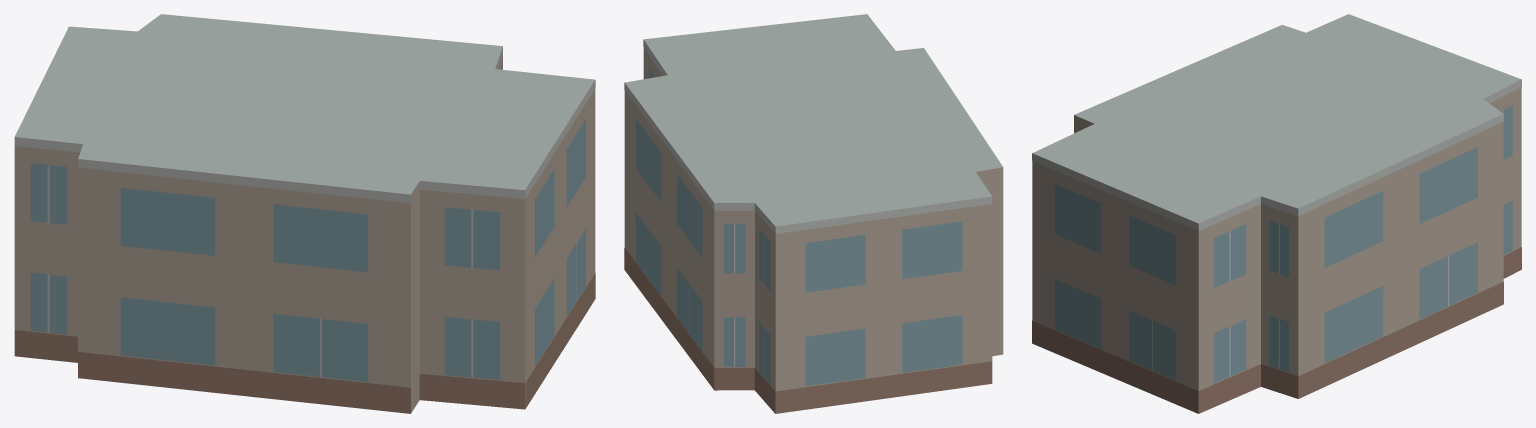
Rendered from survey-upis-32752708.glb.
3 renders of one model, left to right at view 1: azimuth 30°, elevation 25°; view 2: azimuth 150°, elevation 25°; view 3: azimuth 270°, elevation 25°, orthographic. The views are drawn at different scales.
Parts seen in each view (by area): view 1: survey-upis-32752708.tmp; view 2: survey-upis-32752708.tmp; view 3: survey-upis-32752708.tmp.
Boxes of the visible parts, <box> form: survey-upis-32752708.tmp: <box>14,14,595,413</box>; survey-upis-32752708.tmp: <box>624,14,1003,413</box>; survey-upis-32752708.tmp: <box>1032,14,1521,413</box>.
Bounding box in the file's own units: 14.41 × 6.1 × 14.23.
